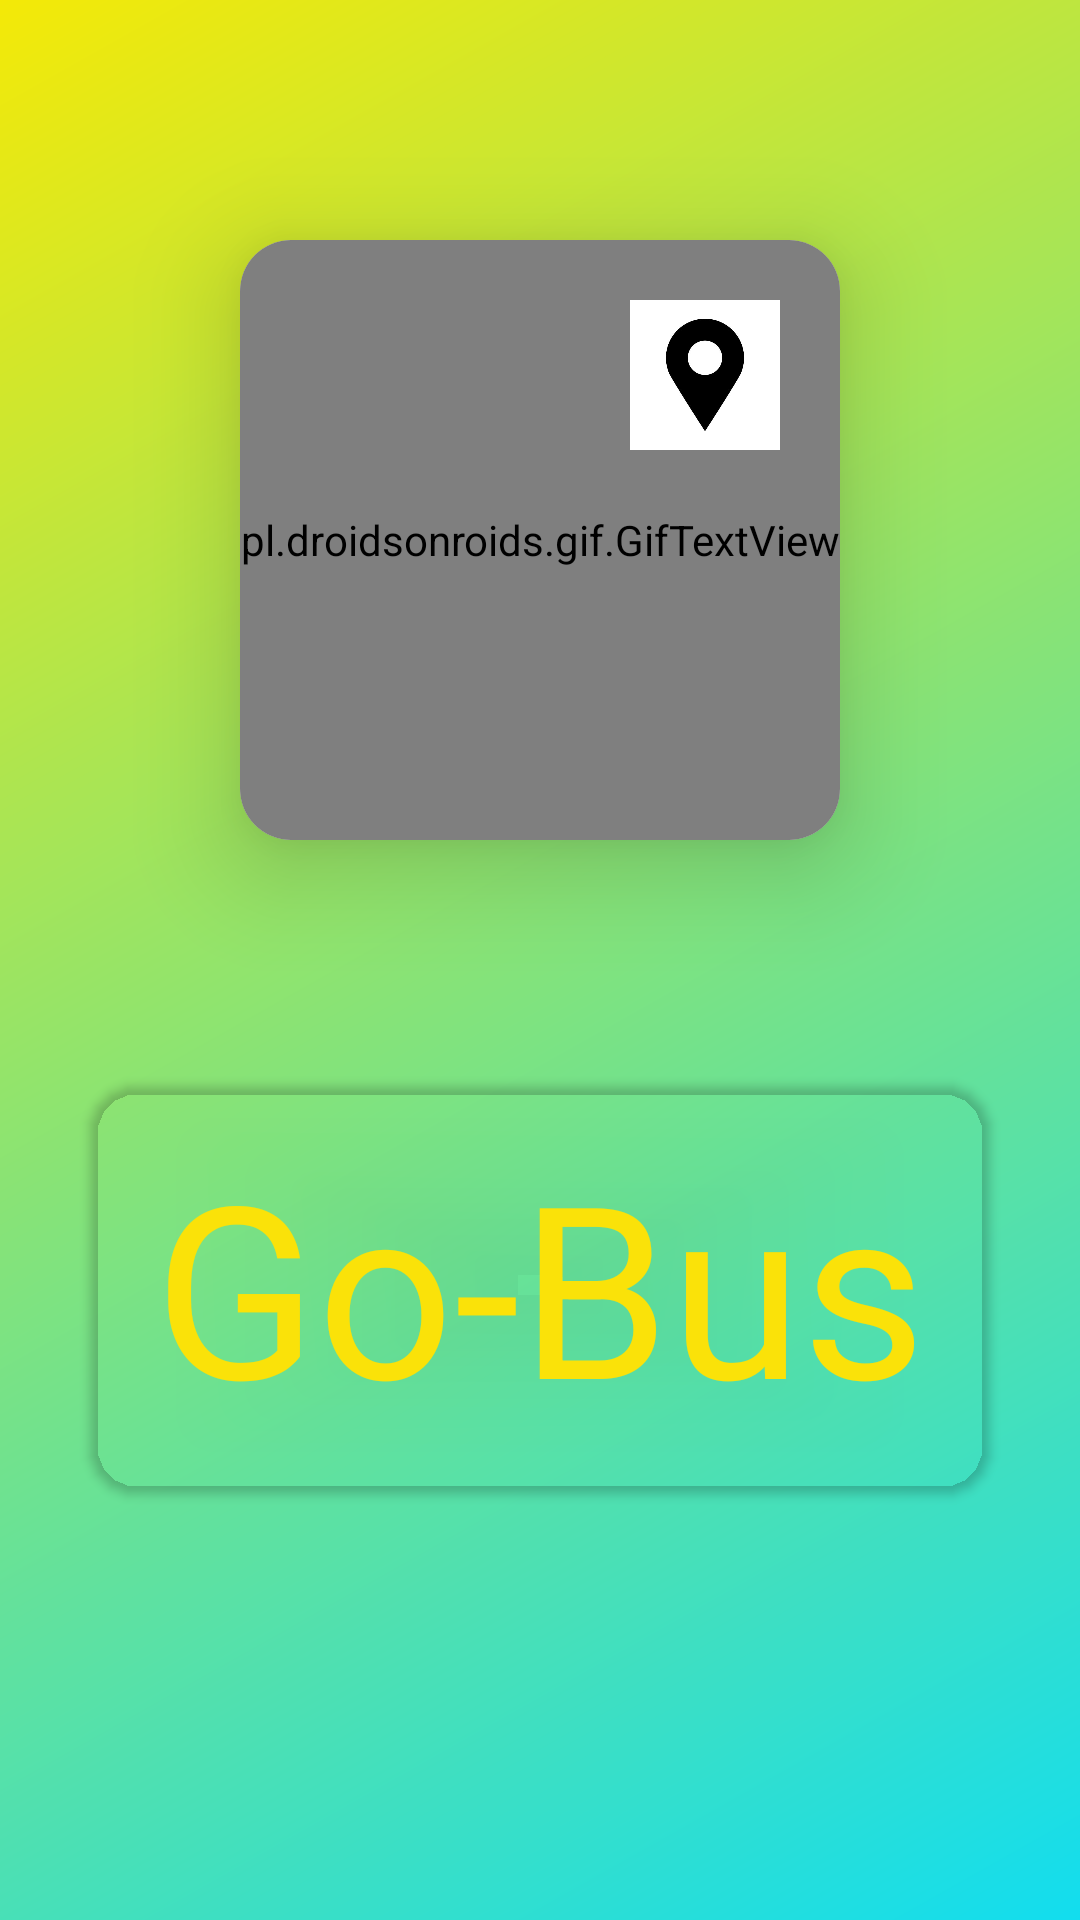

Screen size 1080px x 1920px. Icon name, then its box in pixels as (x1,y1,x2,y2):
location pin: (630,300,780,450)
